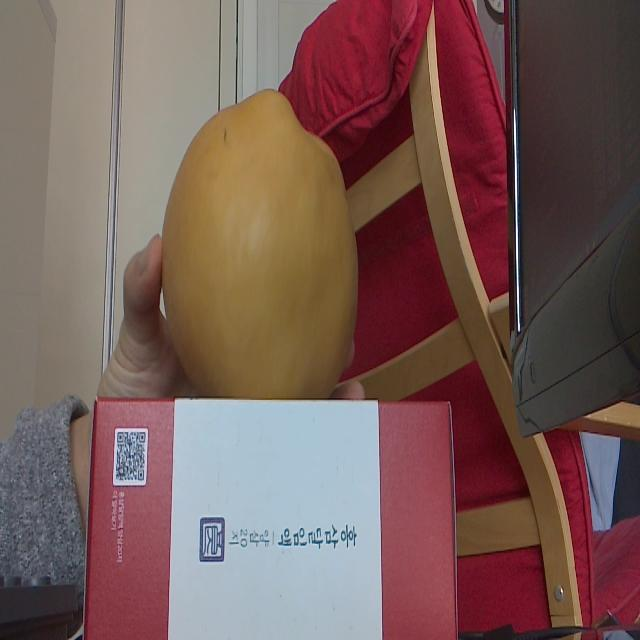pear: (162, 76, 360, 404)
